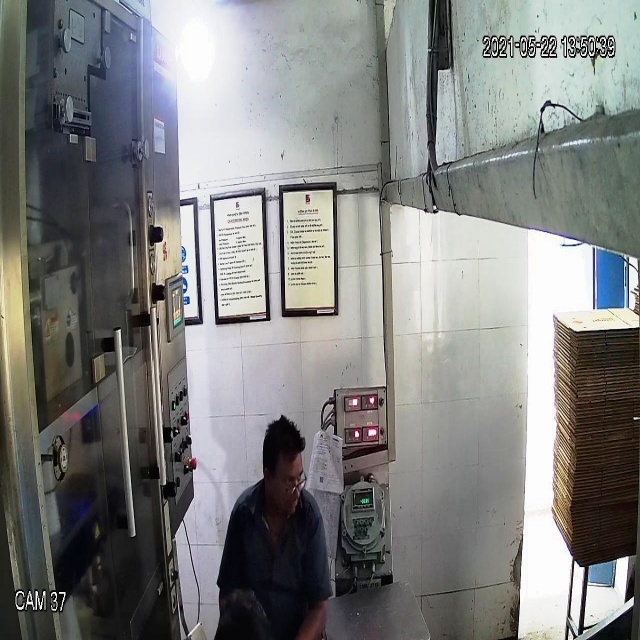Gafas: (260, 460, 309, 499)
